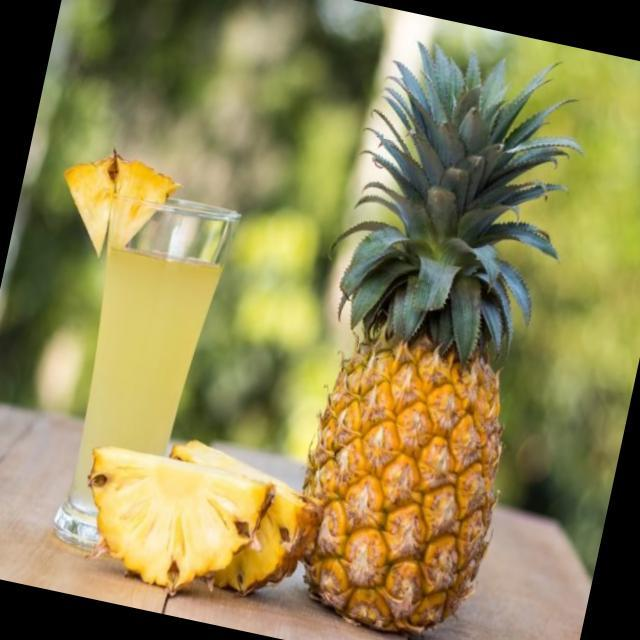PINEAPLE: (283, 44, 584, 640), (70, 438, 277, 612), (160, 434, 344, 604), (54, 145, 178, 253)
